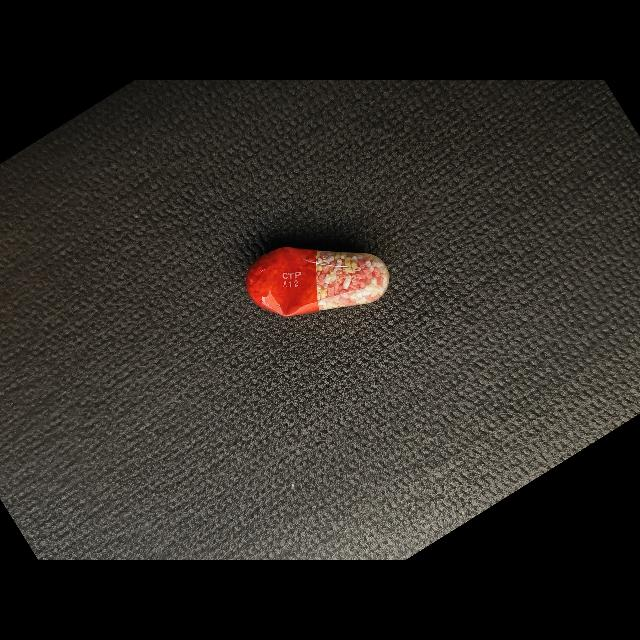Defective Capsule: (246, 247, 389, 317)
